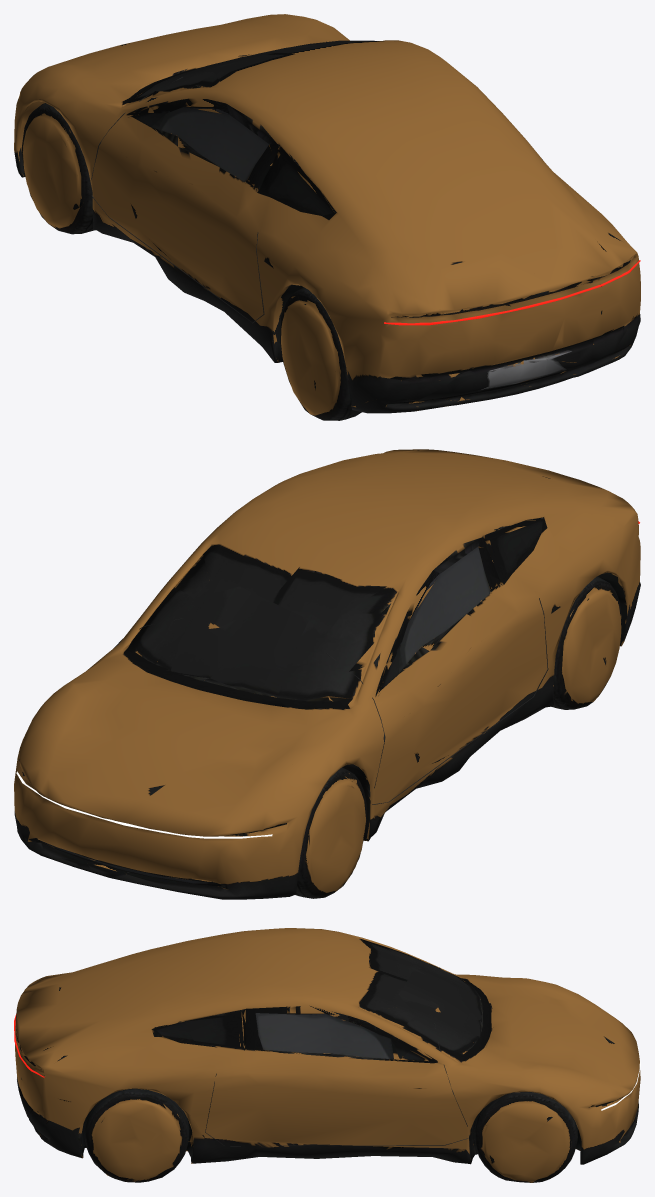
The model's file is cybercab-v2-lod.glb.
3 views of the same model, one above another, from view 1: azimuth 30°, elevation 25°; view 2: azimuth 150°, elevation 25°; view 3: azimuth 270°, elevation 25° (orthographic). The views are drawn at different scales.
Parts seen in each view (by area): view 1: Meshy_Cybercab_ClosedDoors, Rear light; view 2: Meshy_Cybercab_ClosedDoors, Front light; view 3: Meshy_Cybercab_ClosedDoors, Door seam.001.
Part boxes in pixels (x1,y1,x2,y2): Meshy_Cybercab_ClosedDoors: (14,14,640,420); Rear light: (384,260,640,325); Meshy_Cybercab_ClosedDoors: (14,449,640,899); Front light: (16,771,272,838); Meshy_Cybercab_ClosedDoors: (15,928,640,1182); Door seam.001: (205,1023,472,1146).
Size of the model in its own units: 1.84 by 1.36 by 4.46.
4 materials, 1 textured.
